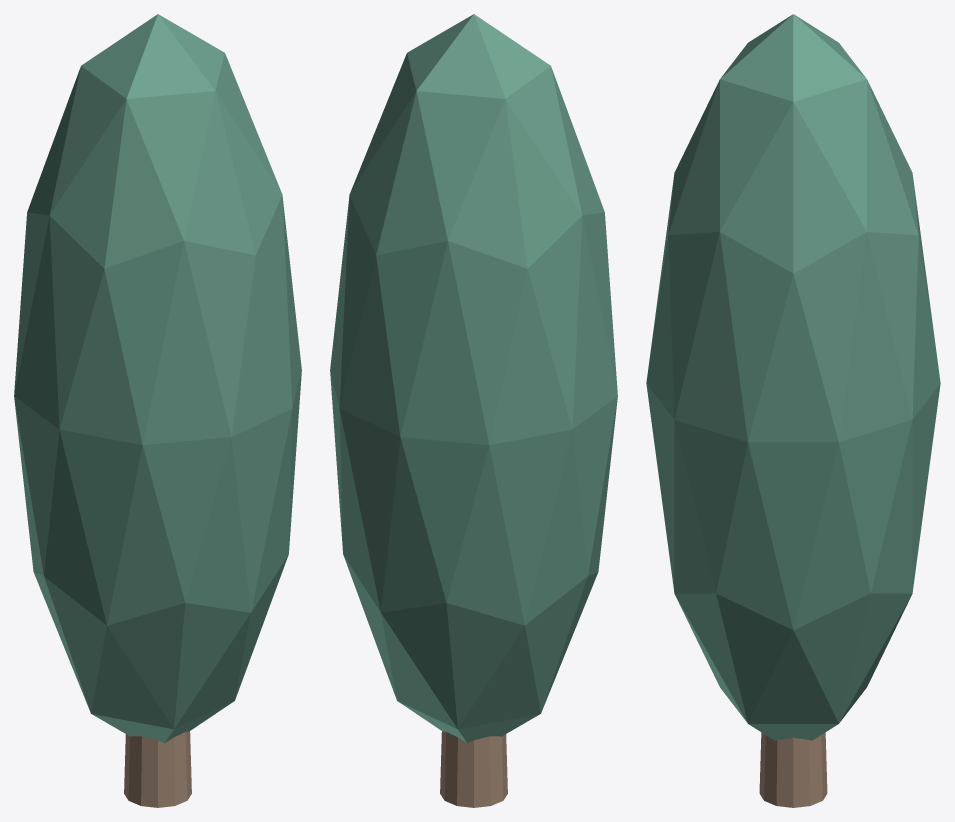
Rendered from cypress.glb.
The picture shows the model from 3 angles, left to right: view 1: azimuth 30°, elevation 25°; view 2: azimuth 150°, elevation 25°; view 3: azimuth 270°, elevation 25°; orthographic projection.
Visible parts, largest first — view 1: cypress_001, cypress_000; view 2: cypress_001, cypress_000; view 3: cypress_001, cypress_000.
Part boxes in pixels (x1,y1,x2,y2): cypress_001: (14,14,301,743); cypress_000: (124,731,191,807); cypress_001: (330,14,617,743); cypress_000: (440,731,507,807); cypress_001: (646,14,940,740); cypress_000: (759,732,827,807).
Bounding box in the file's own units: 1.24 × 3.8 × 1.3.
